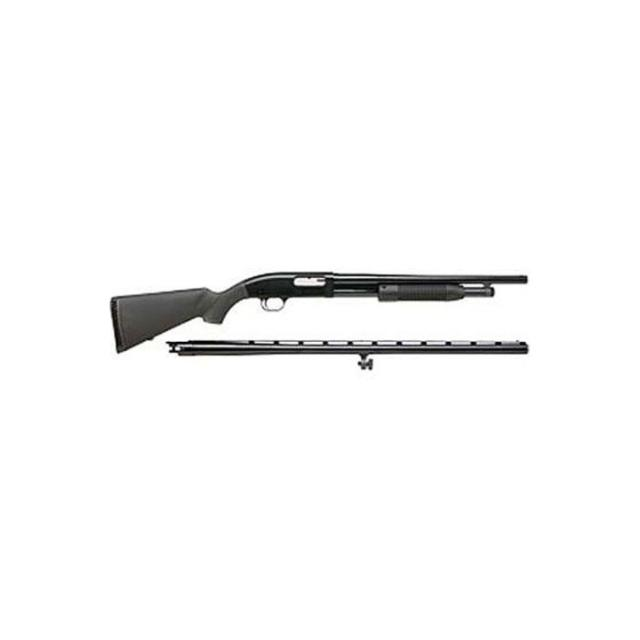ShotGun: (109, 272, 529, 356)
